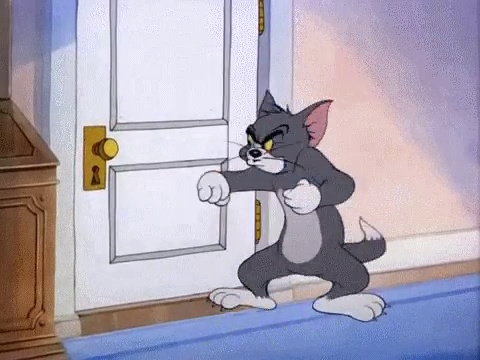tom: (197, 89, 392, 323)
